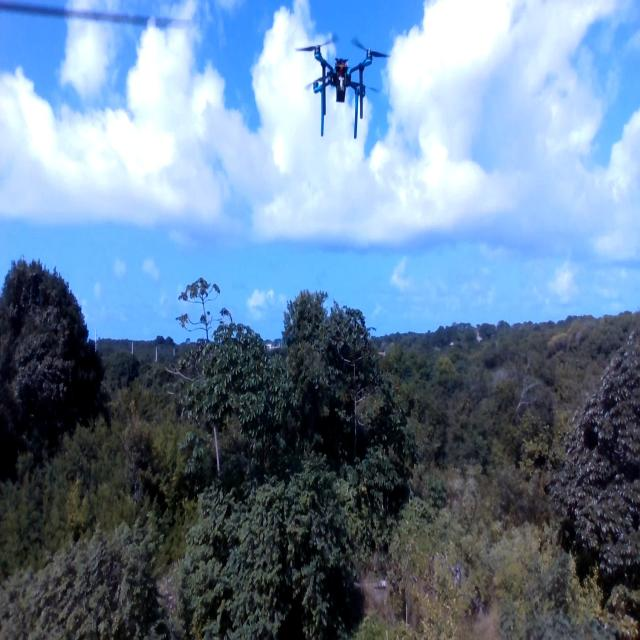-uav-: (292, 28, 389, 141)
